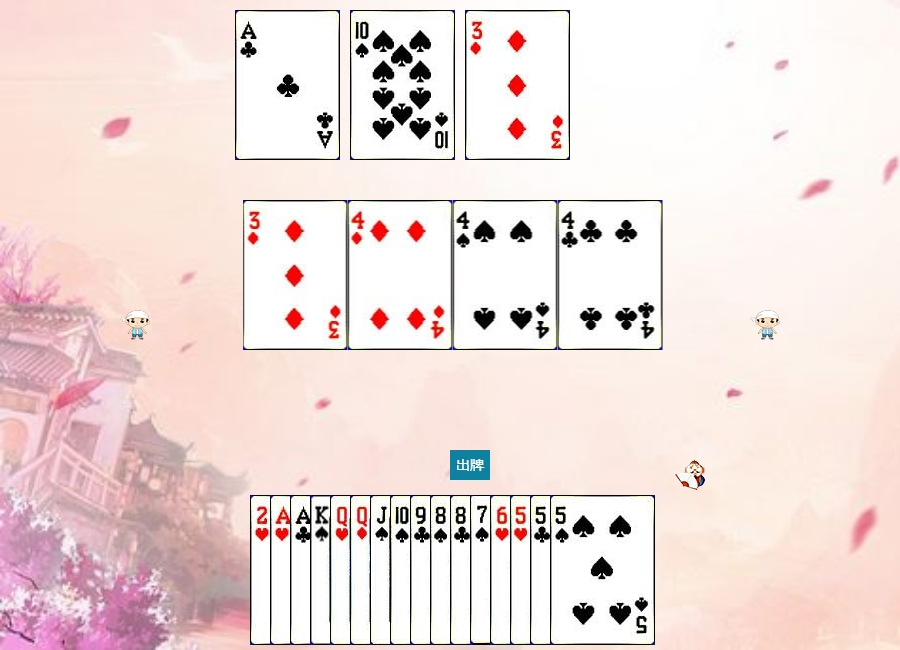10~4: (350, 10, 455, 160), (390, 495, 495, 645)
11~4: (370, 495, 475, 645)
12~1: (350, 495, 455, 645)
12~3: (330, 495, 435, 645)
13~4: (310, 495, 415, 645)
14~2: (235, 10, 340, 160), (290, 495, 395, 645)
14~3: (270, 495, 375, 645)
15~3: (250, 495, 355, 645)
3~1: (465, 10, 570, 160), (243, 200, 348, 350)
4~1: (348, 200, 453, 350)
4~2: (558, 200, 663, 350)
4~4: (453, 200, 558, 350)
5~2: (530, 495, 635, 645)
5~3: (510, 495, 615, 645)
5~4: (550, 495, 655, 645)
6~3: (490, 495, 595, 645)
7~4: (470, 495, 575, 645)
8~2: (450, 495, 555, 645)
8~4: (430, 495, 535, 645)
9~2: (410, 495, 515, 645)
